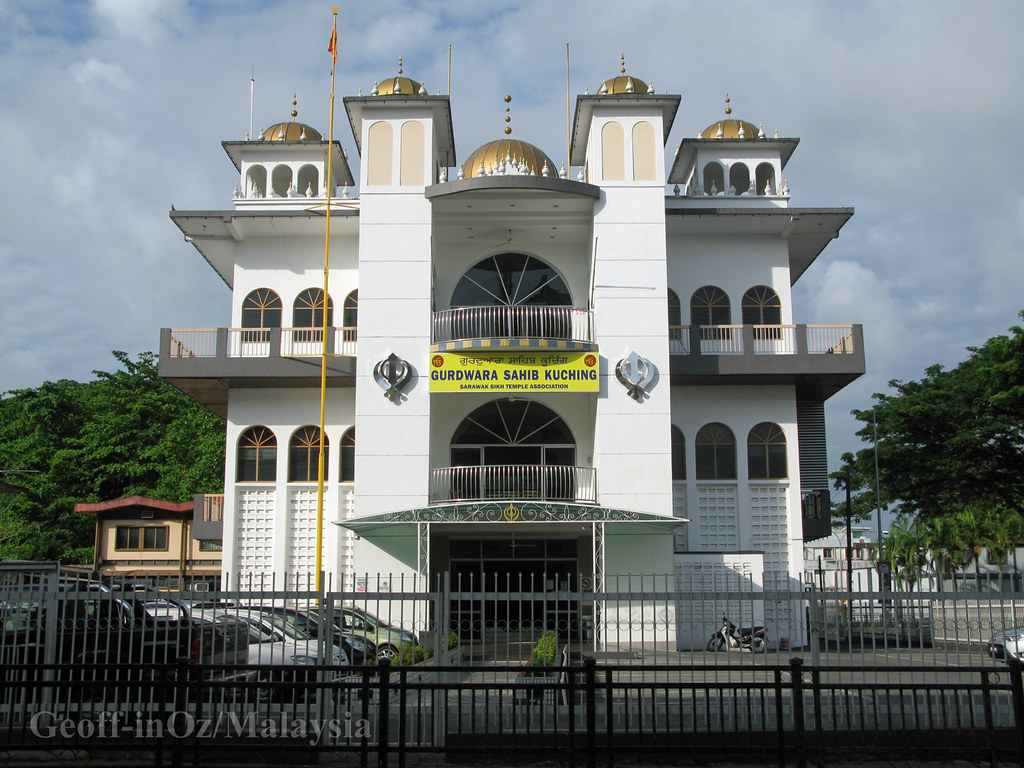Gurdwara: (221, 50, 834, 633)
